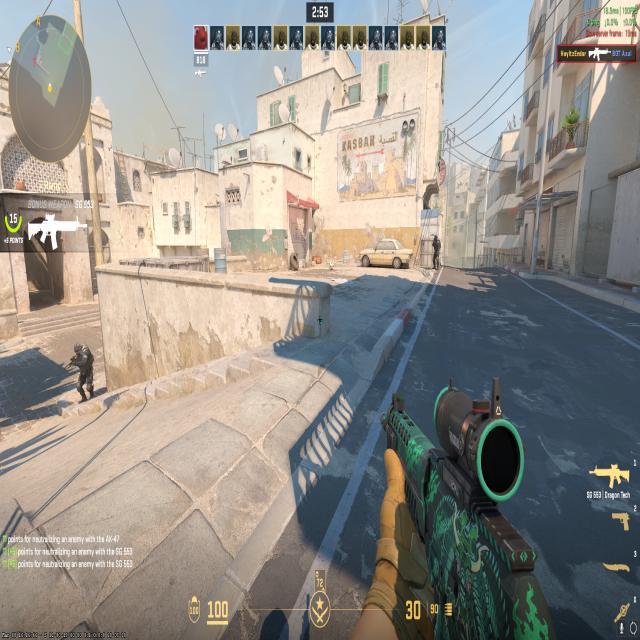ct: (68, 337, 96, 408), (431, 233, 443, 272)
